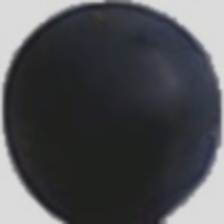grapes: (0, 18, 200, 164)
